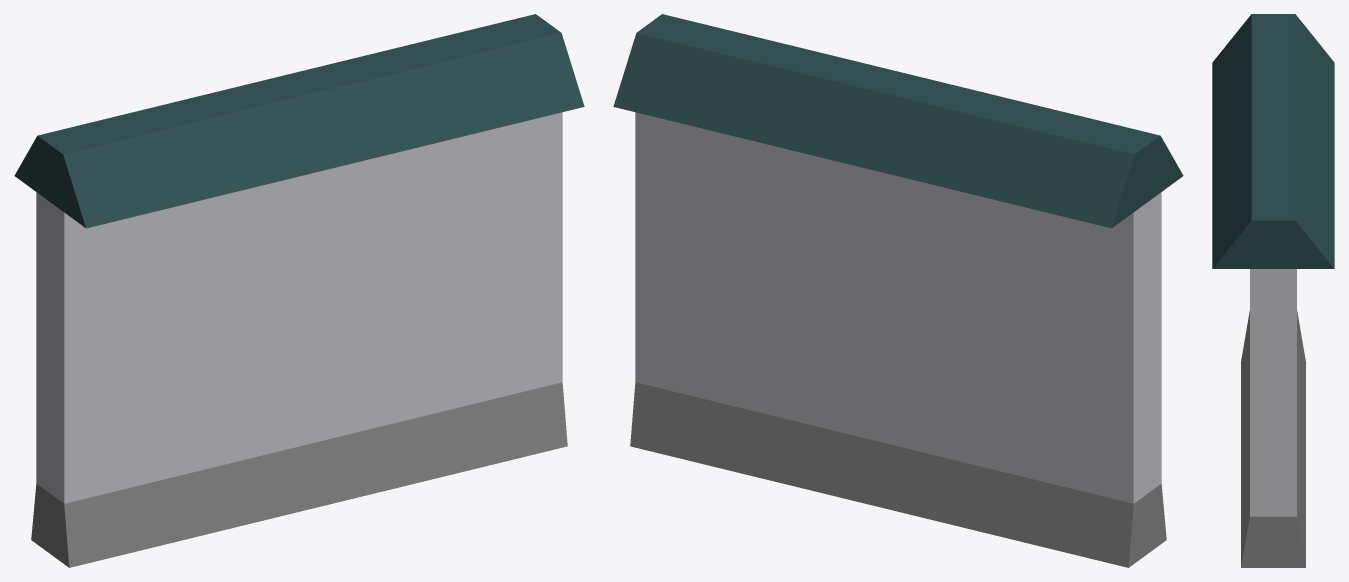
The model's file is Asian_Prop_Building_Fence_Wall_Simple_02.FBX.
3 views of the same model, side by side, from view 1: azimuth 30°, elevation 25°; view 2: azimuth 150°, elevation 25°; view 3: azimuth 270°, elevation 25° (orthographic). The views are drawn at different scales.
Parts seen in each view (by area): view 1: Asian_Prop_Building_Fence_Wall_Simple_02; view 2: Asian_Prop_Building_Fence_Wall_Simple_02; view 3: Asian_Prop_Building_Fence_Wall_Simple_02.
Part boxes in pixels (box(x1,y1,x2,y2)): Asian_Prop_Building_Fence_Wall_Simple_02: box(14, 14, 584, 567); Asian_Prop_Building_Fence_Wall_Simple_02: box(613, 14, 1183, 567); Asian_Prop_Building_Fence_Wall_Simple_02: box(1212, 14, 1334, 567).
Size of the model in its own units: 5167 by 4051 by 1290.
